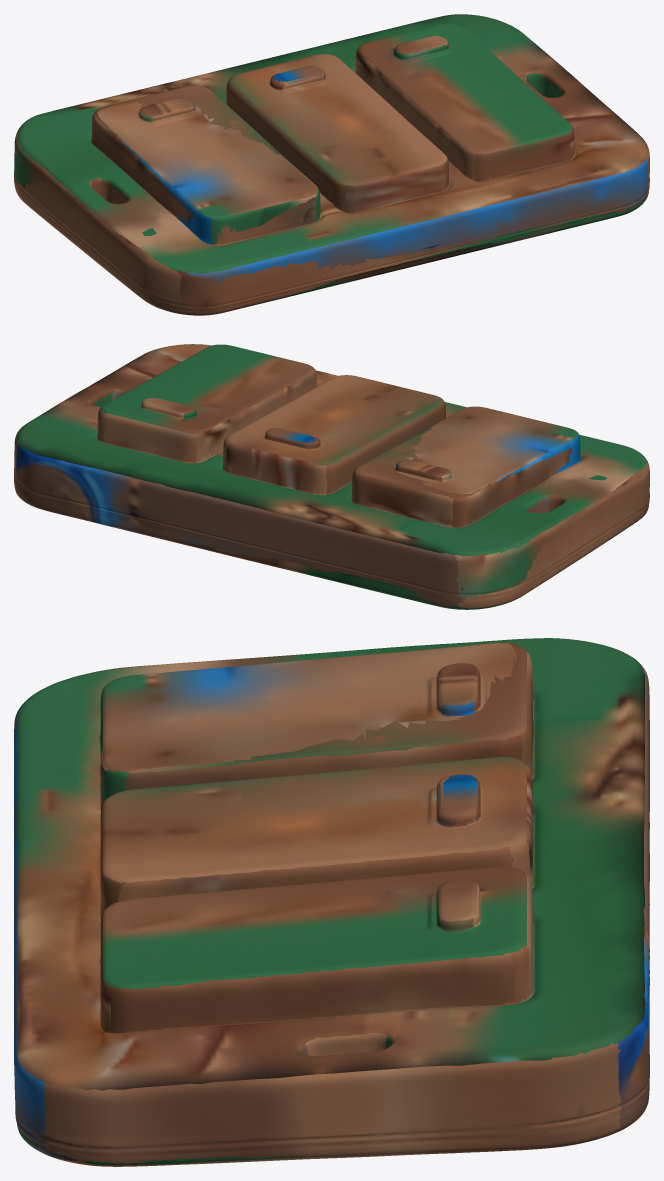
The model's file is switch.mtl.obj.
3 renders of one model, top to bottom at view 1: azimuth 30°, elevation 25°; view 2: azimuth 150°, elevation 25°; view 3: azimuth 270°, elevation 25°, orthographic. The views are drawn at different scales.
Parts seen in each view (by area): view 1: node_0.001; view 2: node_0.001; view 3: node_0.001.
Boxes of the visible parts, x1=… form: node_0.001: x1=14, y1=14, x2=649, y2=315; node_0.001: x1=14, y1=344, x2=649, y2=609; node_0.001: x1=14, y1=638, x2=649, y2=1166.
Size of the model in its own units: 0.3984 by 0.0757 by 0.2519.
